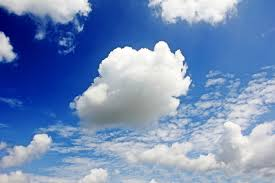sky: (3, 1, 271, 183)
